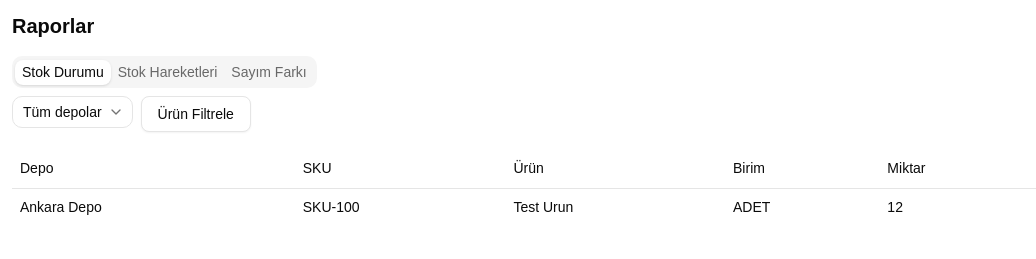
it: ReportsPage › shows the stock count variance report when that tab is selected
Expected: the text "Ankara Depo" is shown, x1=12 y1=188 x2=295 y2=224
What coordinates should you click on to do the following:
click the tab "Sayım Farkı"
I would click on:
 (269, 72)
Its box is x1=224 y1=60 x2=314 y2=84.
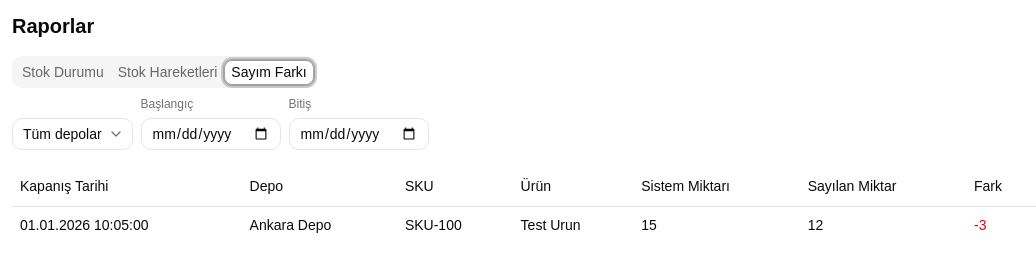
Expected: the text "-3" is shown, x1=974 y1=216 x2=986 y2=232
Expected: the text "15" is shown, x1=633 y1=206 x2=800 y2=242
